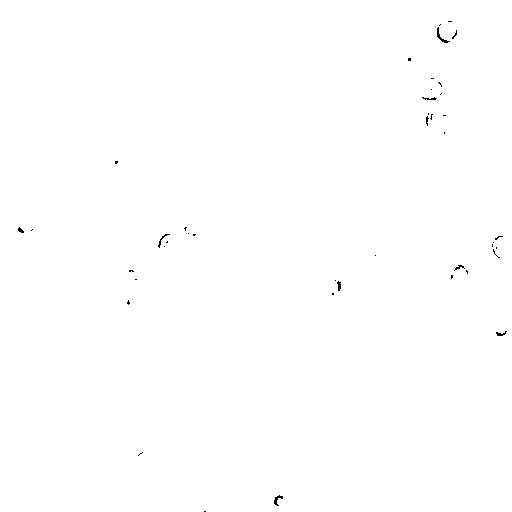micro-algae: (177, 55, 335, 207), (204, 88, 294, 183), (260, 58, 313, 115), (81, 255, 130, 303), (182, 465, 217, 506), (388, 279, 424, 317), (71, 131, 105, 168), (300, 469, 334, 503), (127, 356, 159, 387), (363, 345, 393, 374), (137, 343, 165, 374), (343, 289, 369, 321), (159, 231, 185, 262), (494, 271, 511, 317), (427, 105, 453, 135), (415, 77, 445, 102), (103, 146, 127, 176), (16, 442, 40, 471), (397, 45, 423, 71), (489, 231, 511, 260), (147, 250, 172, 275), (435, 17, 460, 42), (327, 349, 353, 373), (132, 448, 155, 475), (171, 87, 195, 112), (49, 7, 72, 30), (450, 263, 470, 286), (370, 251, 392, 271), (268, 490, 289, 509), (324, 276, 342, 297), (146, 327, 163, 349), (369, 437, 387, 457), (326, 233, 347, 249), (16, 218, 35, 235), (124, 223, 143, 240), (121, 289, 138, 307), (186, 500, 211, 511), (123, 267, 140, 283), (492, 319, 509, 335), (32, 0, 54, 12), (323, 249, 339, 265), (183, 221, 200, 236), (502, 479, 512, 497)
